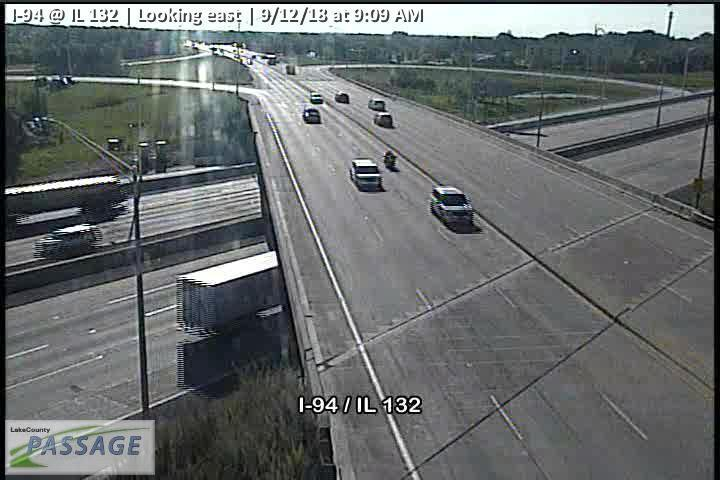Motorbike: (383, 149, 396, 168)
SUV: (31, 224, 103, 259), (431, 185, 473, 225), (350, 159, 383, 192), (374, 111, 393, 127), (304, 106, 320, 124), (367, 97, 384, 110), (335, 91, 350, 103)
Sedan: (310, 92, 323, 104)
Truck: (176, 250, 281, 337), (5, 176, 128, 243)
